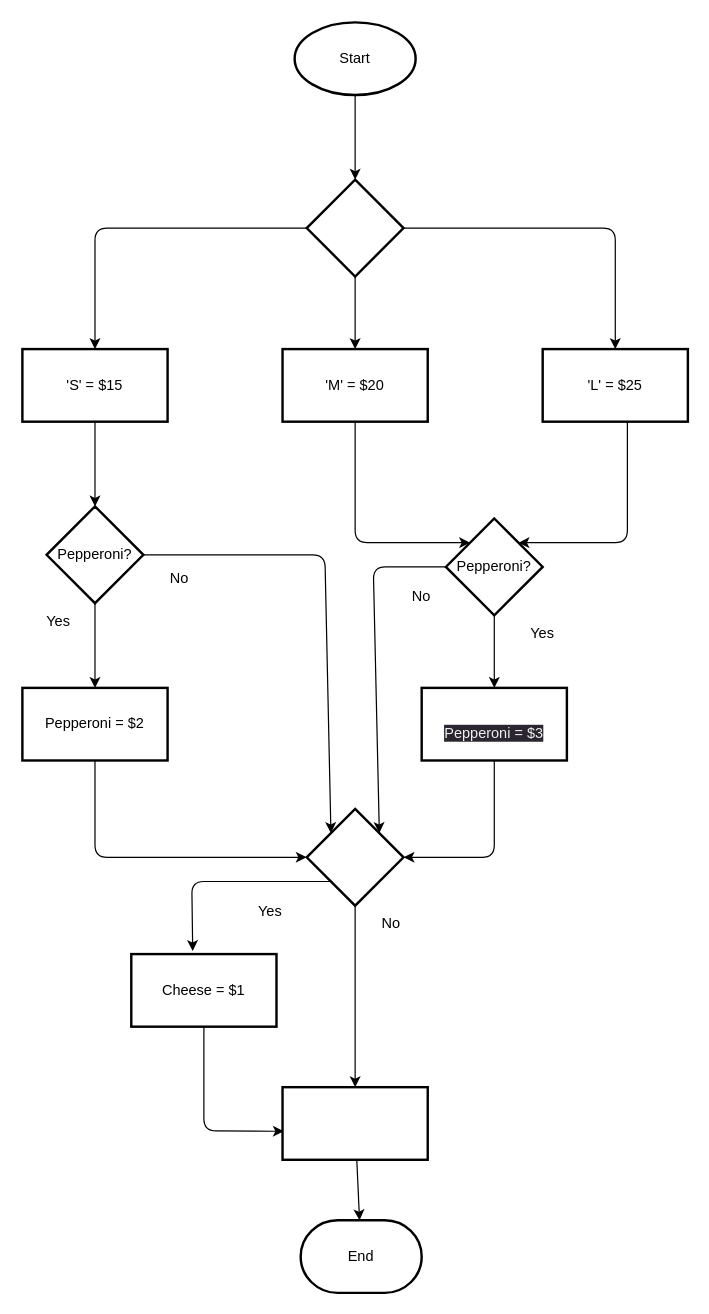
The diagram is 709 pixels wide and 1314 high, and some of its shapes have lost their labels. The shapes that lost their labels are listed below. From the top down, each one's centre as x and y in pixels, then its label:
pixel 354 227: Size of pizza?
pixel 354 856: Cheese
pixel 354 1122: Print final bill
